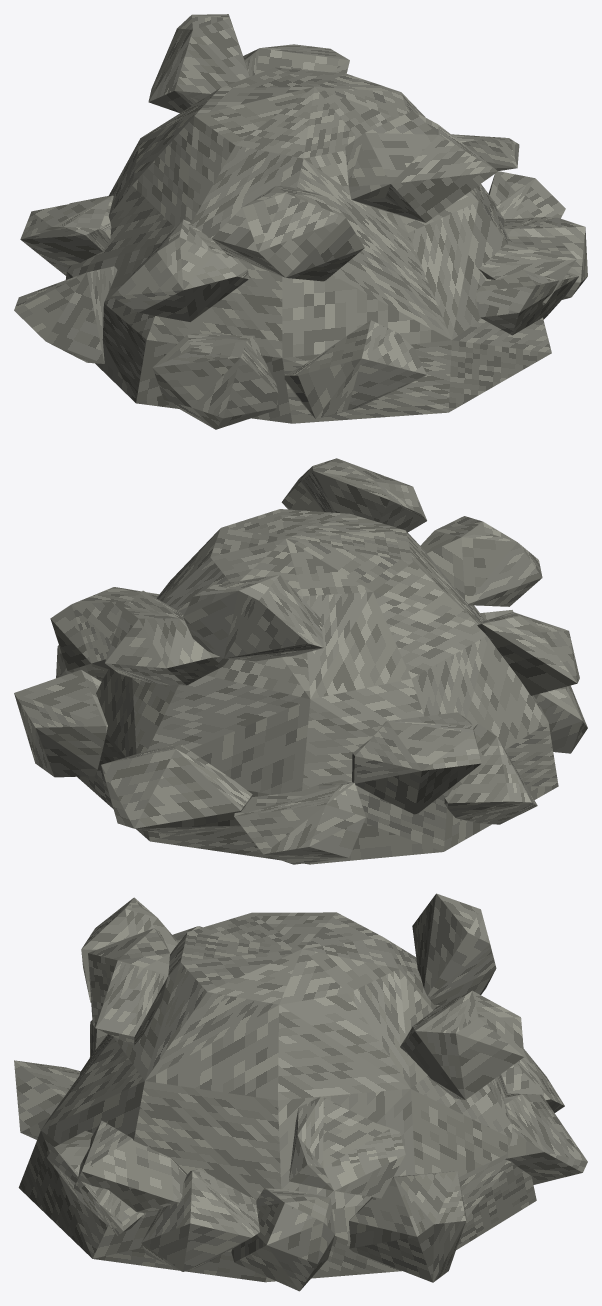
File: f_rock_large_mound_short.glb
3 views of the same model, one above another, from view 1: azimuth 30°, elevation 25°; view 2: azimuth 150°, elevation 25°; view 3: azimuth 270°, elevation 25° (orthographic). The views are drawn at different scales.
Visible parts, largest first — view 1: block_loose-rock_large (×14), block_heaped-rock_large; view 2: block_loose-rock_large (×12), block_heaped-rock_large; view 3: block_heaped-rock_large, block_loose-rock_large (×13).
Boxes of the visible parts, left/top/right/bottom form: block_loose-rock_large (×14): left=14, top=14, right=587, bottom=429; block_heaped-rock_large: left=65, top=67, right=551, bottom=423; block_loose-rock_large (×12): left=14, top=458, right=587, bottom=864; block_heaped-rock_large: left=77, top=509, right=558, bottom=864; block_heaped-rock_large: left=18, top=912, right=536, bottom=1282; block_loose-rock_large (×13): left=14, top=893, right=587, bottom=1291.
Bounding box in the file's own units: 1.01 × 0.4765 × 0.9354.
1 material, 1 textured.
